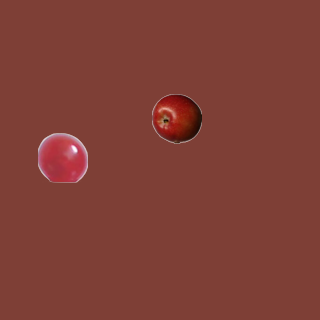Apple Braeburn: (151, 93, 201, 143)
Redcurrant: (37, 132, 87, 182)
